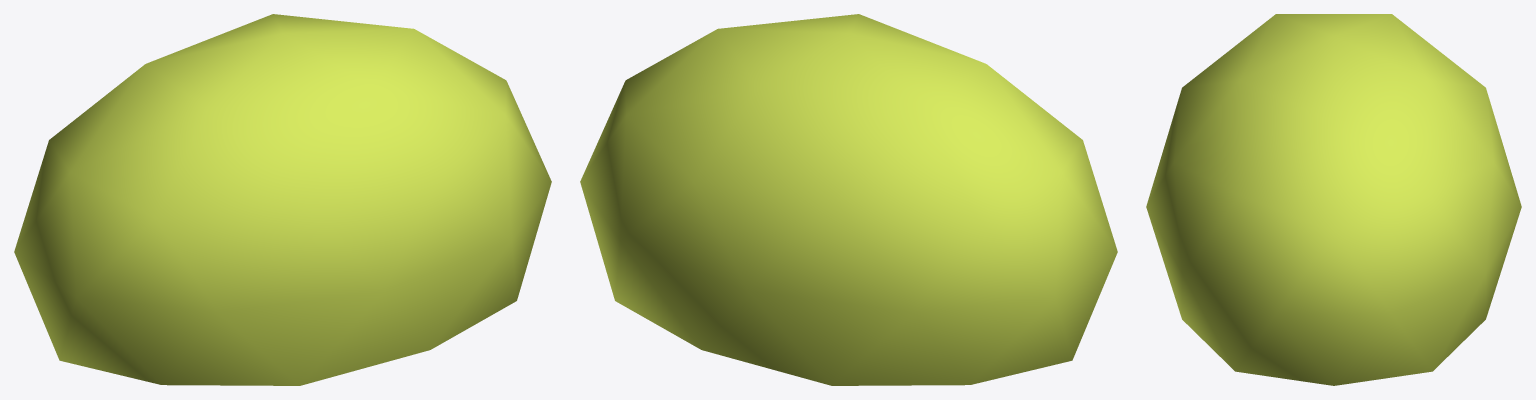
Rendered from Shrub_001.fbx.
The picture shows the model from 3 angles, left to right: view 1: azimuth 30°, elevation 25°; view 2: azimuth 150°, elevation 25°; view 3: azimuth 270°, elevation 25°; orthographic projection. The views are drawn at different scales.
Parts seen in each view (by area): view 1: Shrub_001; view 2: Shrub_001; view 3: Shrub_001.
Part boxes in pixels (x1,y1,x2,y2): Shrub_001: [14, 14, 551, 385]; Shrub_001: [580, 14, 1117, 385]; Shrub_001: [1146, 14, 1521, 385].
Bounding box in the file's own units: 758 × 416 × 559.
